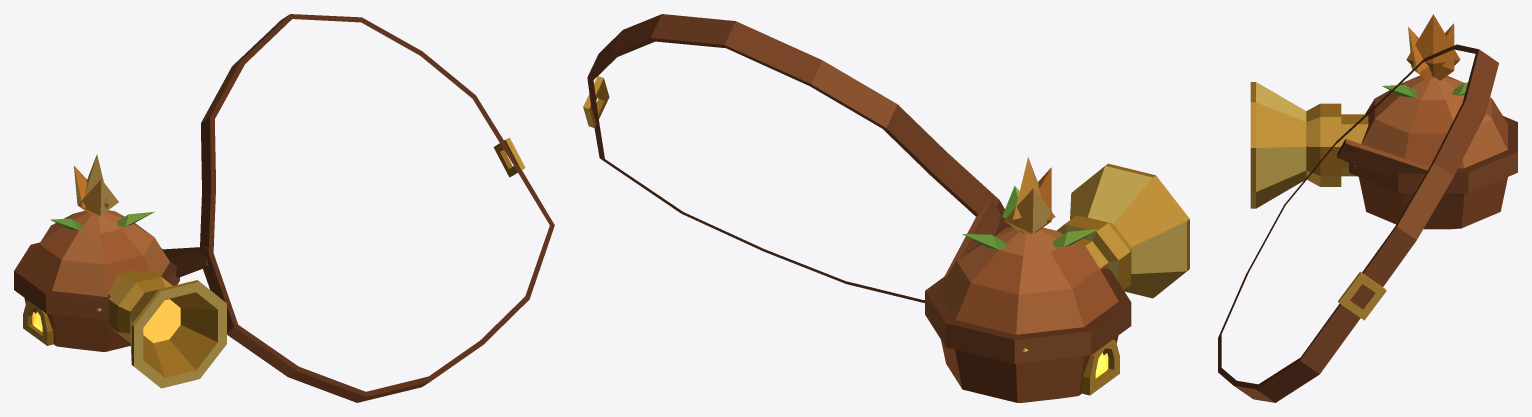
The model's file is fire_spitter_bramblewool.glb.
3 views of the same model, side by side, from view 1: azimuth 30°, elevation 25°; view 2: azimuth 150°, elevation 25°; view 3: azimuth 270°, elevation 25° (orthographic). The views are drawn at different scales.
Visible parts, largest first — view 1: fire_unit, fire_spitter; view 2: fire_unit, fire_spitter; view 3: fire_unit, fire_spitter.
Part boxes in pixels (box(x1,y1,x2,y2)): fire_unit: box(14, 154, 226, 388); fire_spitter: box(162, 14, 554, 402); fire_unit: box(925, 157, 1189, 402); fire_spitter: box(583, 14, 1011, 302); fire_unit: box(1250, 14, 1517, 229); fire_spitter: box(1218, 44, 1498, 402).
Bounding box in the file's own units: 1.17 × 0.7182 × 0.5998.
